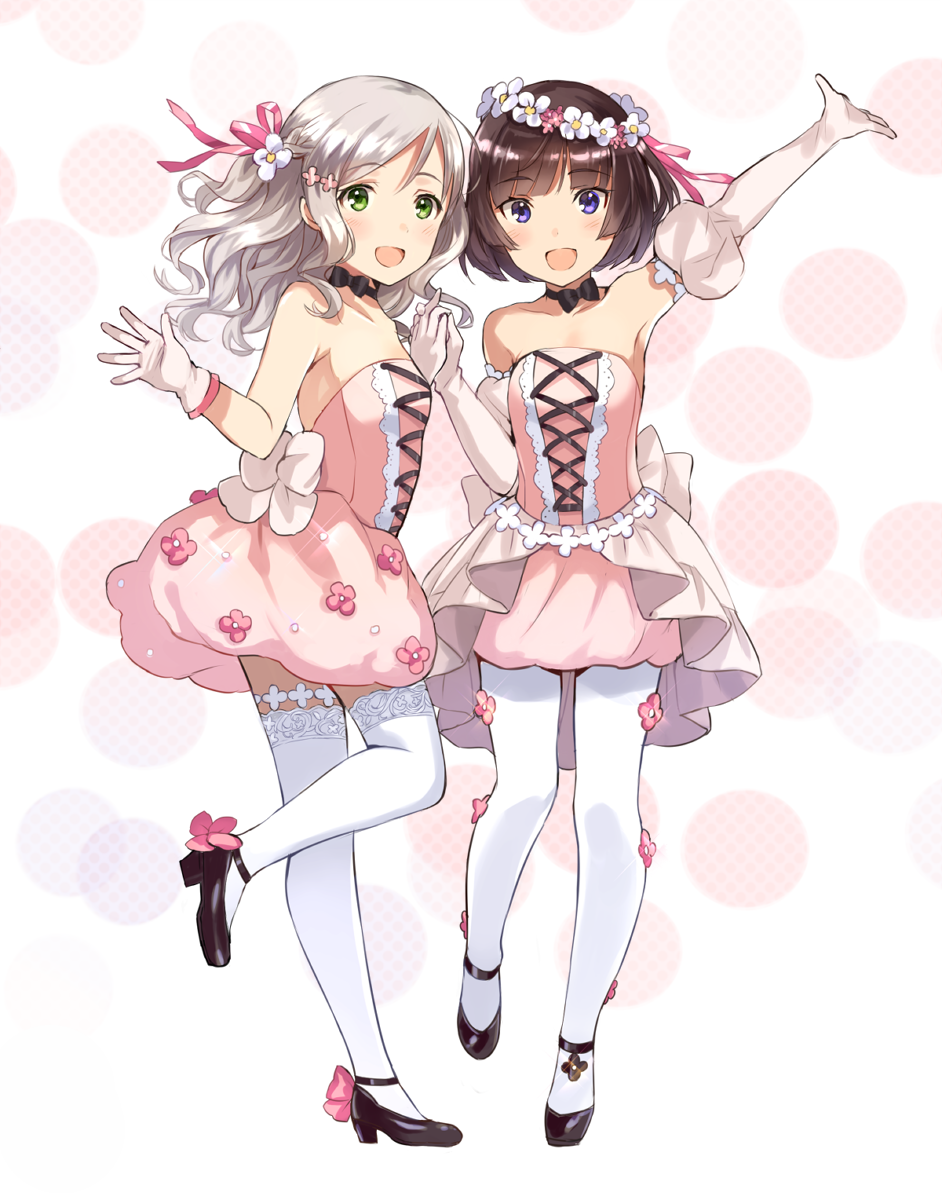纸片人正脸: (273, 72, 474, 303), (464, 75, 669, 296)
